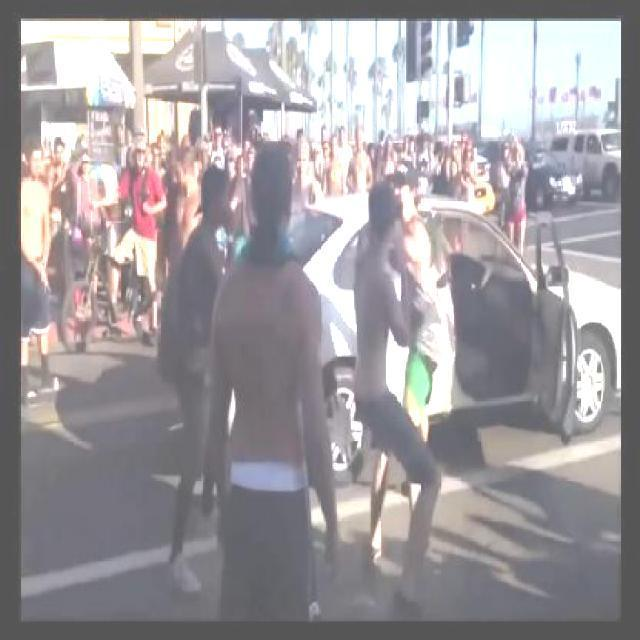fight: (359, 162, 453, 613)
